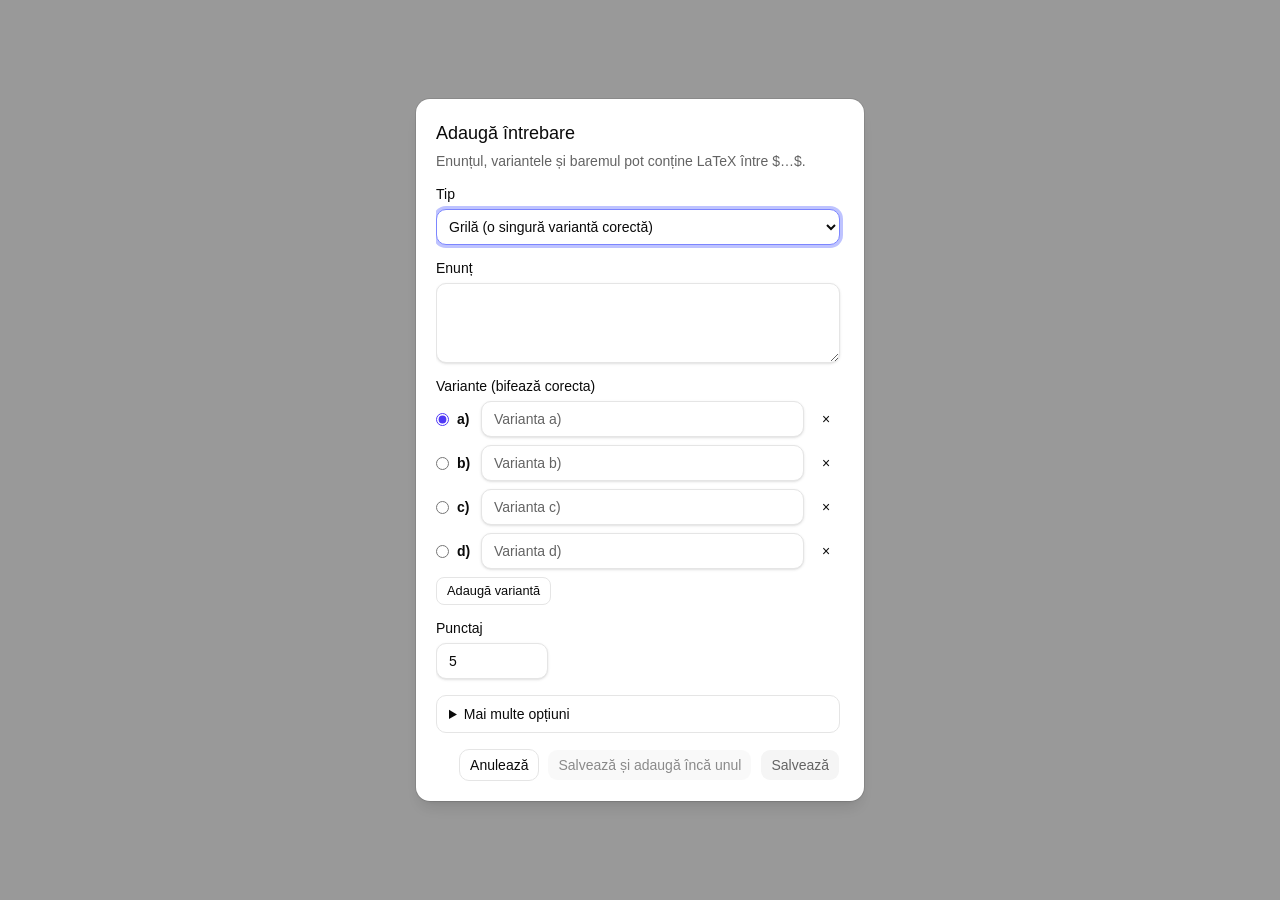
Test: ItemDialog quick entry › saves and empties the form for the next item, keeping its type and points
Select "Cu rezolvare (elevul trimite poza)" in the dropdown labelled "Tip" at x=638, y=227, box [436, 209, 840, 245]
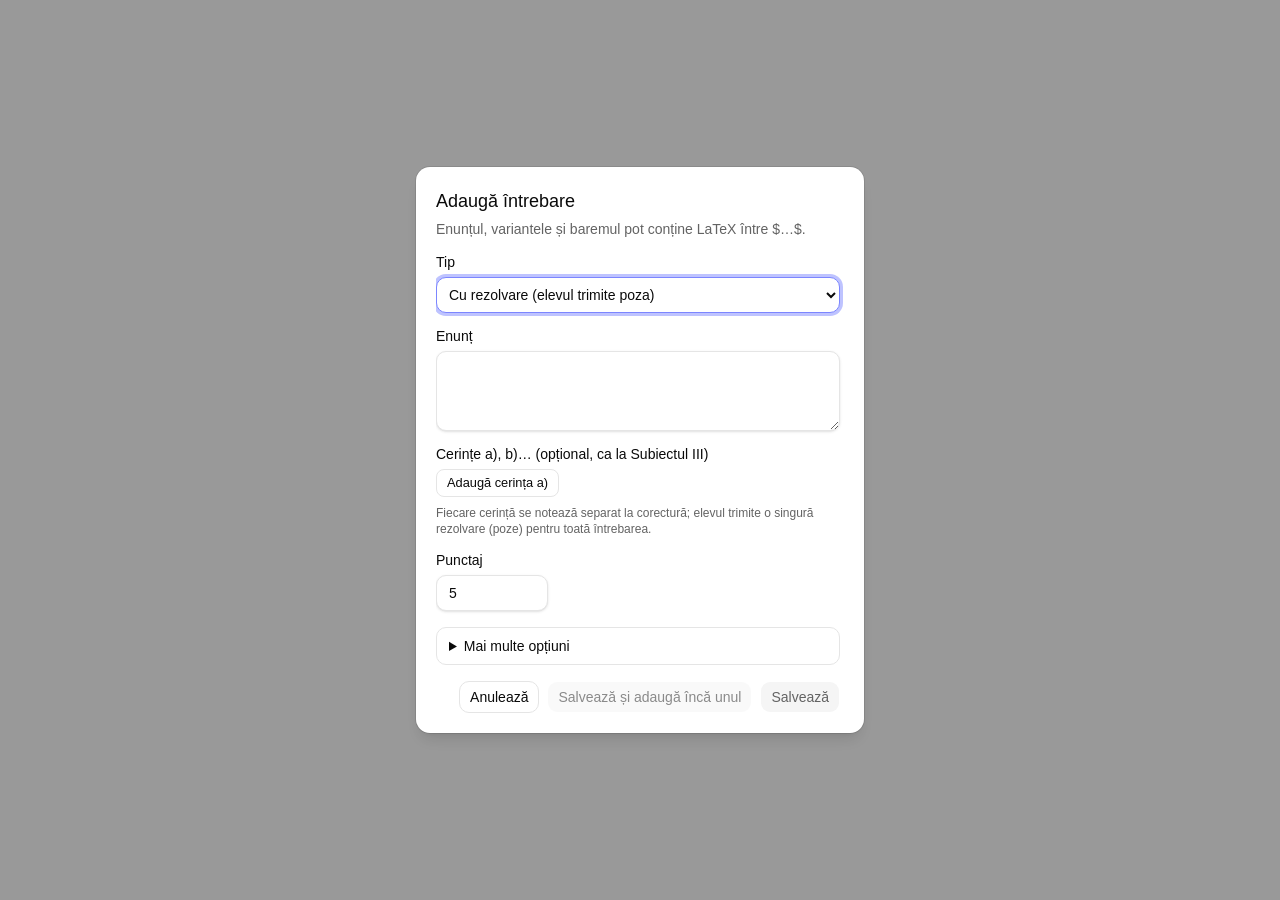
Type "Demonstrează" into the text box labelled "Enunț".
click(638, 391); type("Demonstrează")  # box [436, 351, 840, 431]
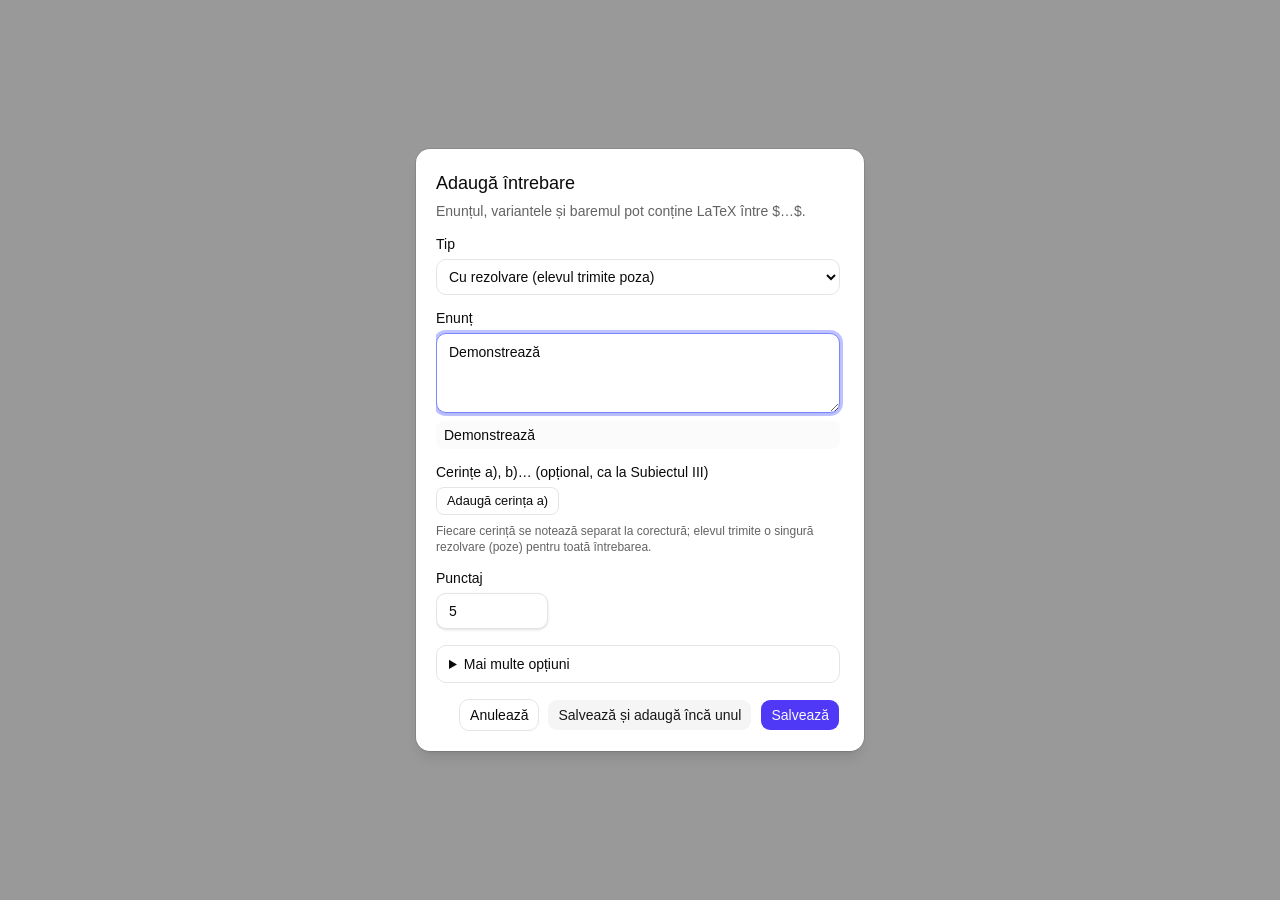
Clear the number field labelled "Punctaj" at x=492, y=611, box [436, 593, 548, 629]
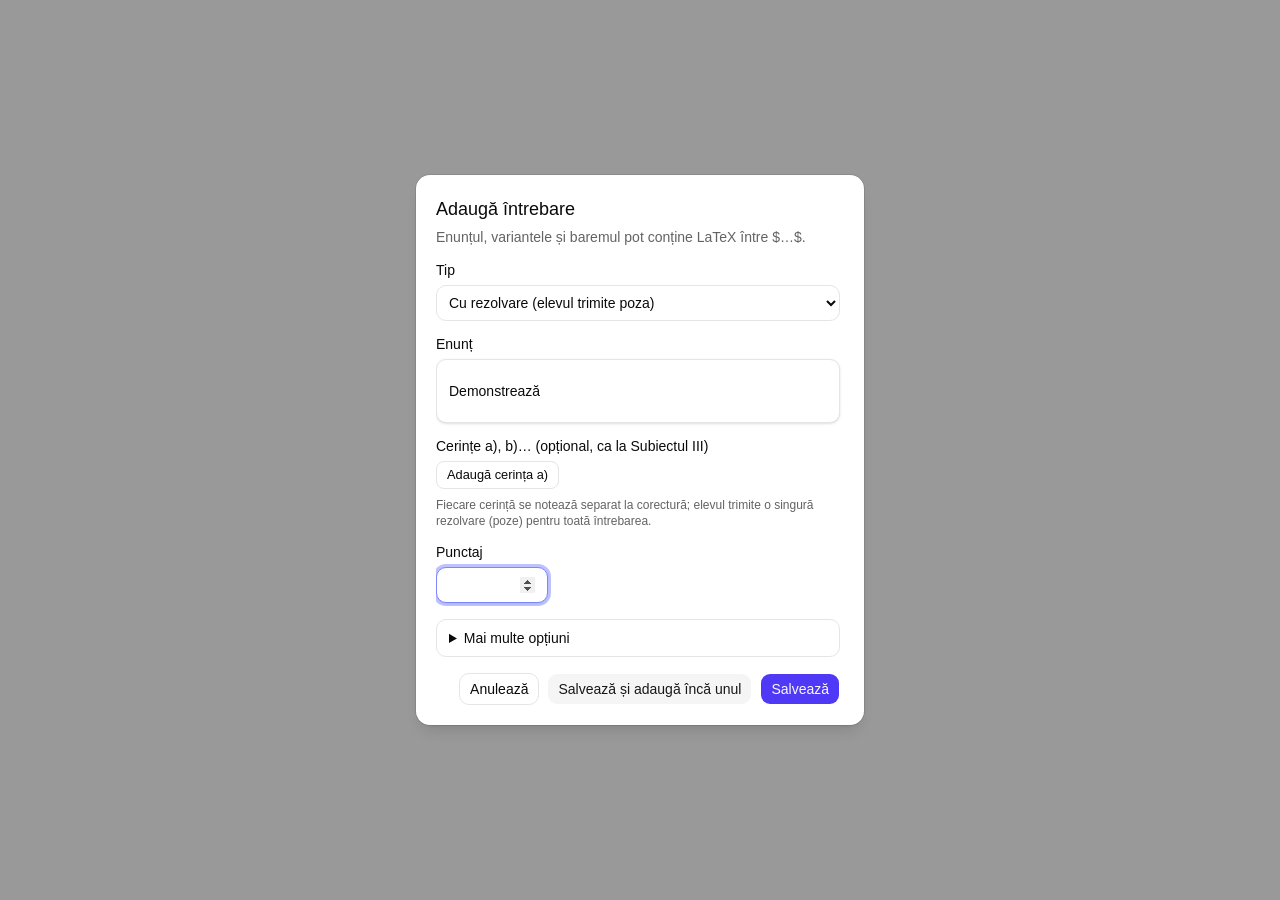
Type "3" into the number field labelled "Punctaj".
click(492, 585); type("3")  # box [436, 567, 548, 603]
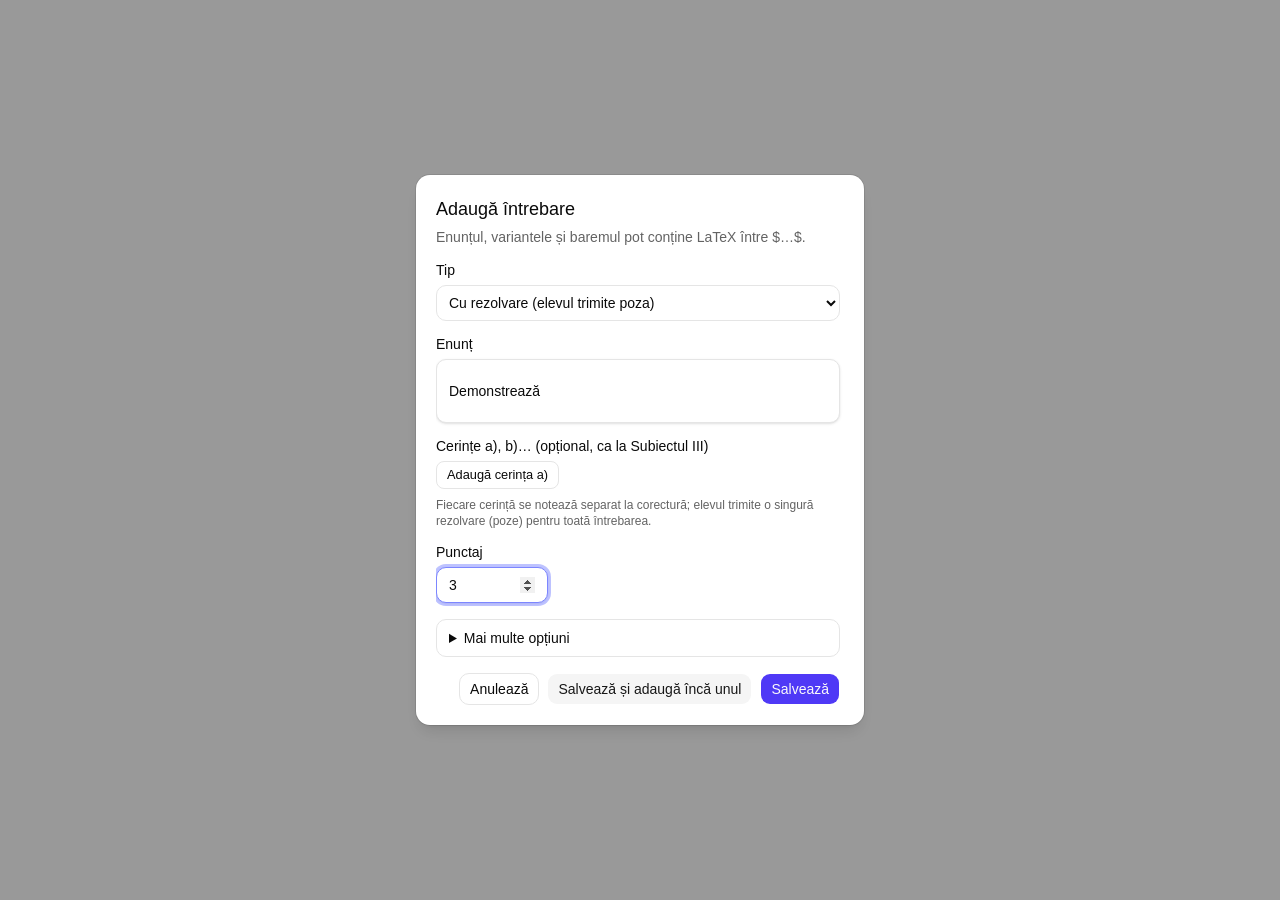
Click the button "Salvează și adaugă încă unul".
click(650, 689)  # box [548, 673, 752, 705]
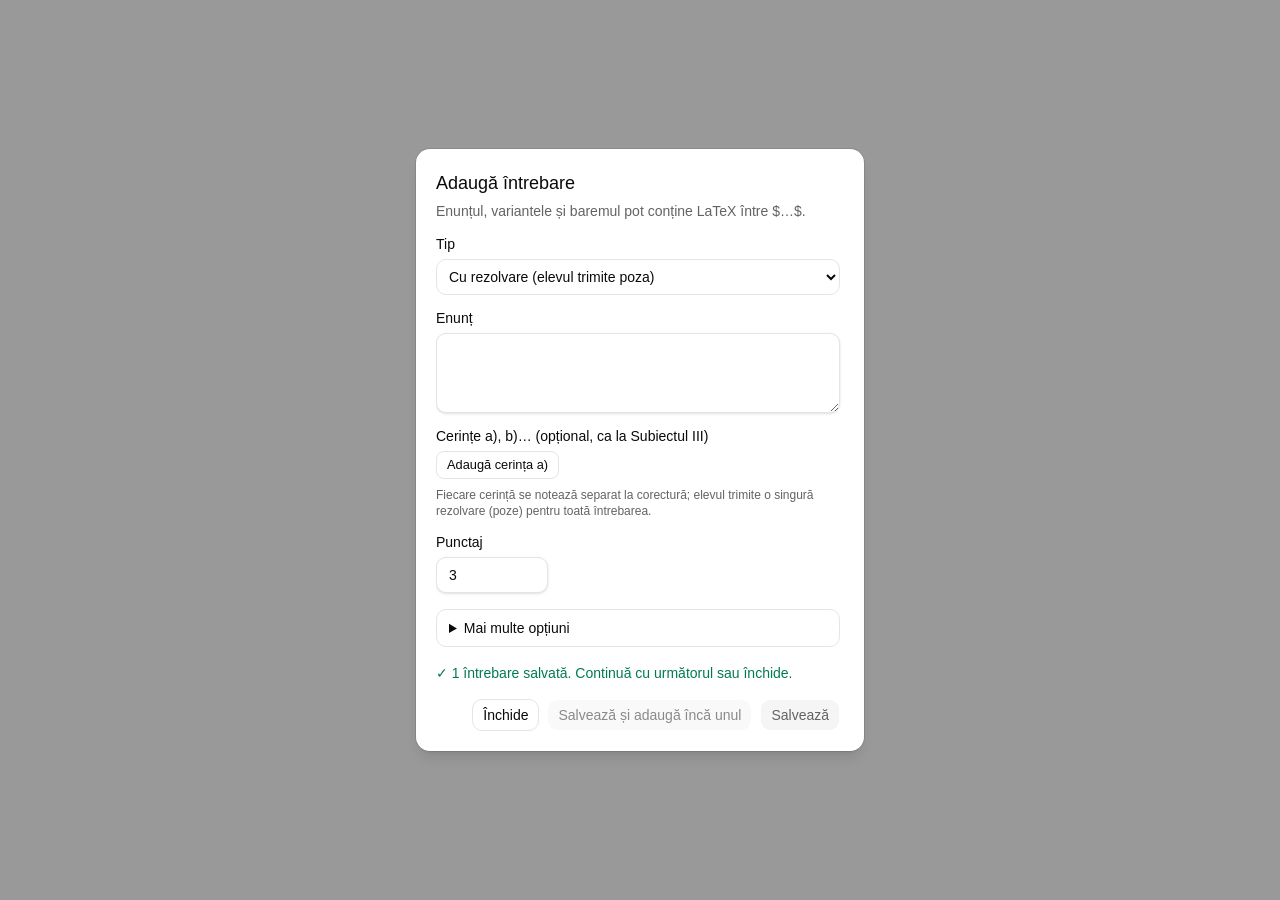
Now the text box labelled "Enunț" is empty, box [436, 333, 840, 413]
Now the message shows "1 întrebare salvată", box [452, 665, 568, 681]
